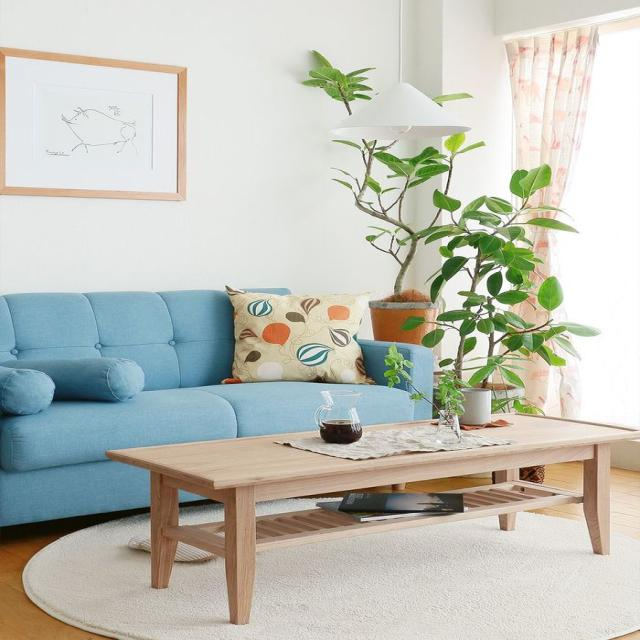natural desk: (106, 403, 640, 628)
natural sofa: (1, 280, 446, 419)
